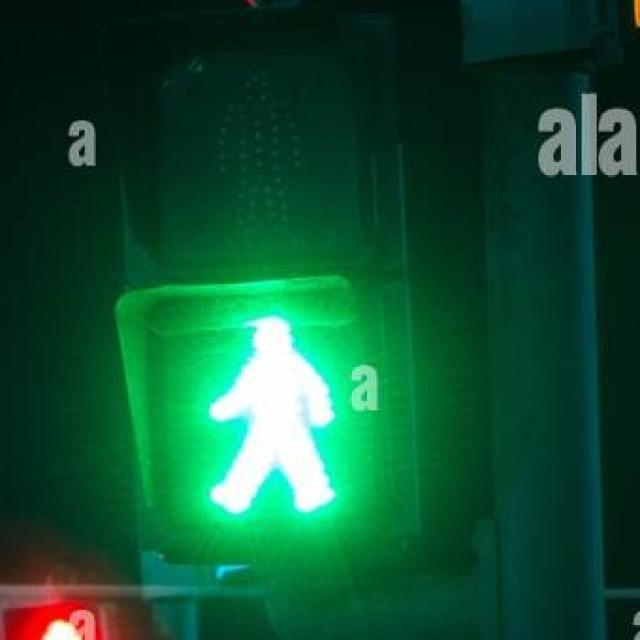green_light: (192, 310, 344, 528)
